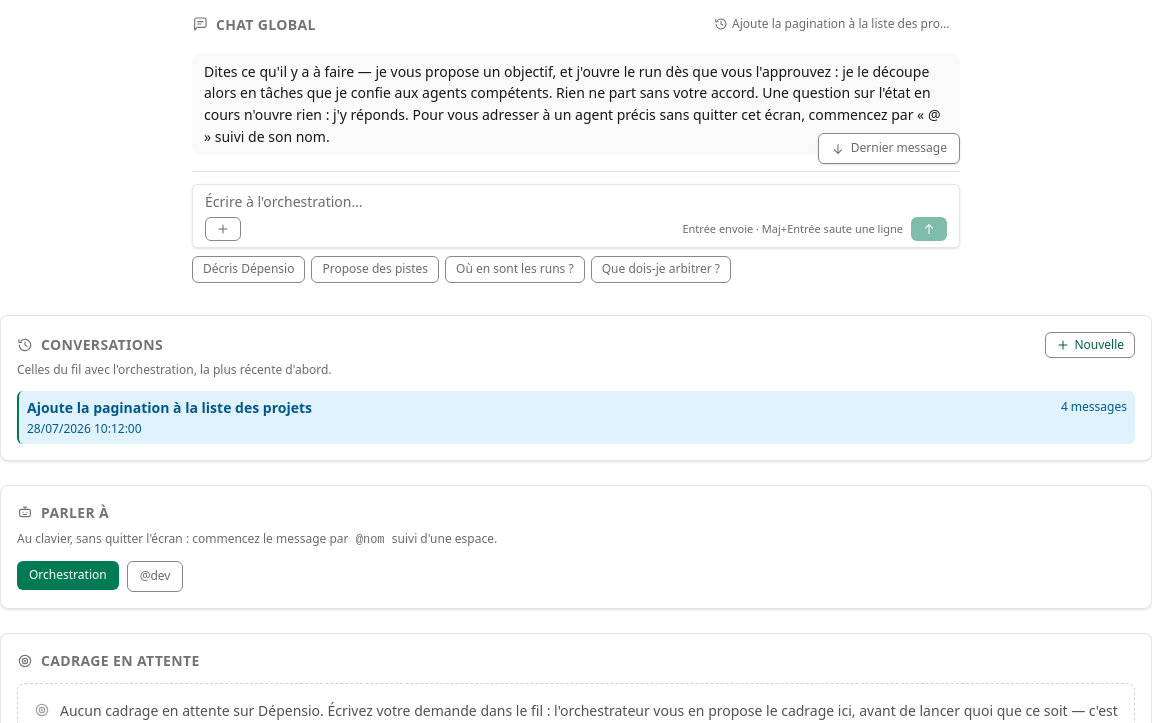
Test: le geste « Dernier message » sur le chat global (/chat) › ② l'envoi d'un message le retire lui aussi
The image size is (1152, 723).
Expected: the button "Dernier message" is shown, [818, 133, 960, 164]
In the text box with placeholder "Écrire à l'orchestration…": (576, 202) [205, 191, 947, 213], type "Où en es-tu ?"
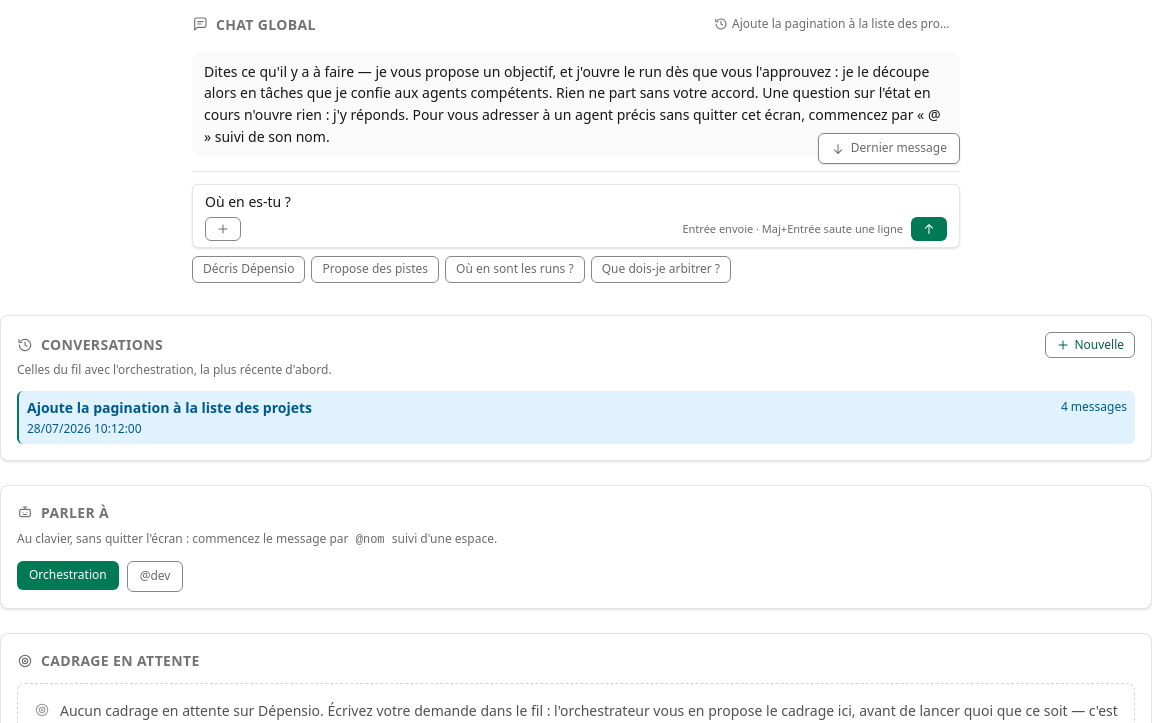
Submit the form, box [192, 171, 960, 291]
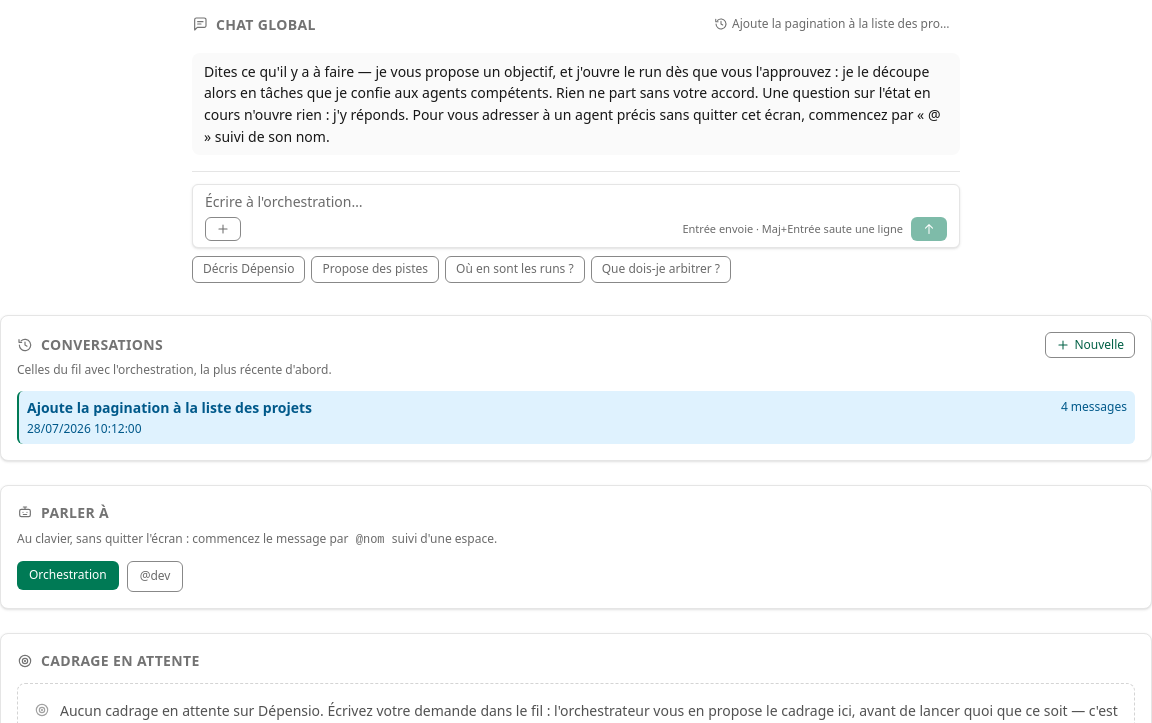
Expected: the button "Dernier message" is gone
